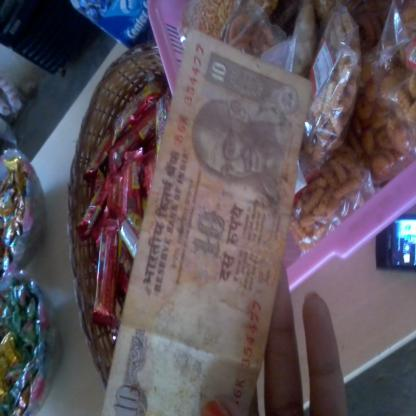Old10Front: (99, 26, 314, 416)
